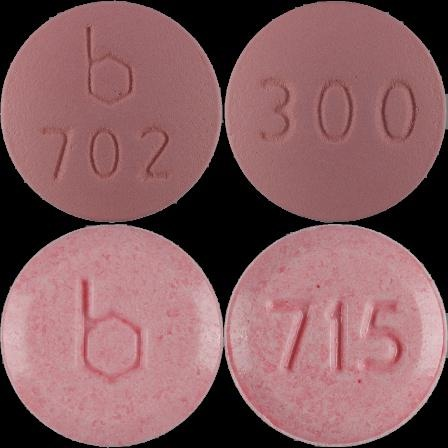0555-0702: (0, 0, 224, 224)
